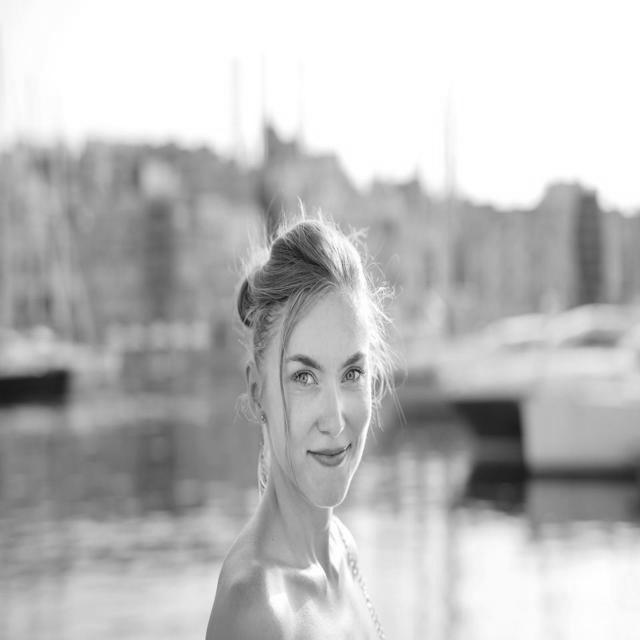Happiness: (266, 292, 372, 510)
